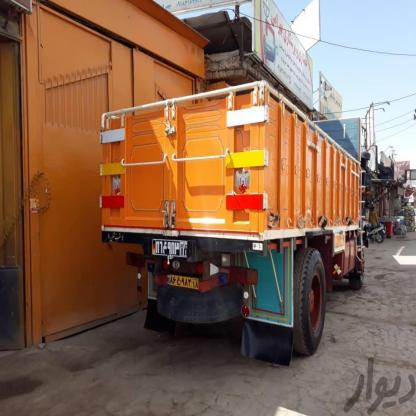Truck: (93, 78, 375, 356)
